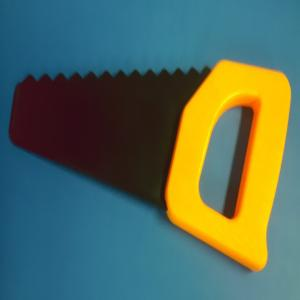serrote: (8, 59, 292, 272)
